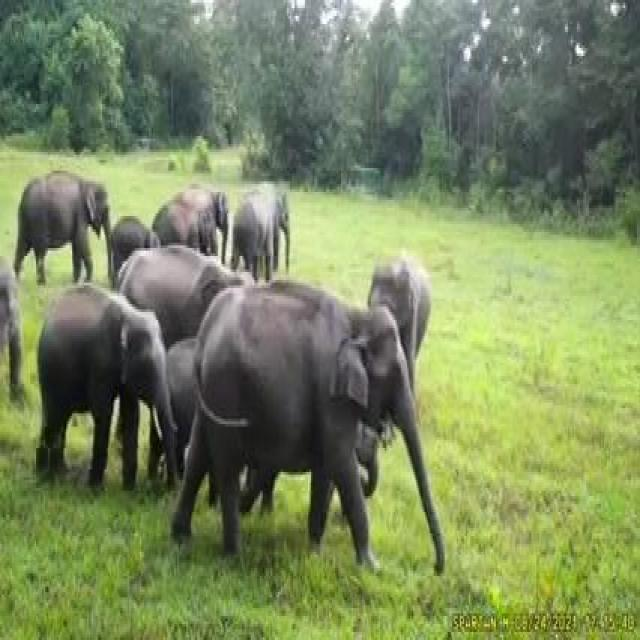Elephant: (192, 282, 422, 520), (38, 288, 174, 468), (12, 160, 112, 269), (155, 168, 229, 255), (232, 168, 298, 265), (370, 246, 432, 346)
